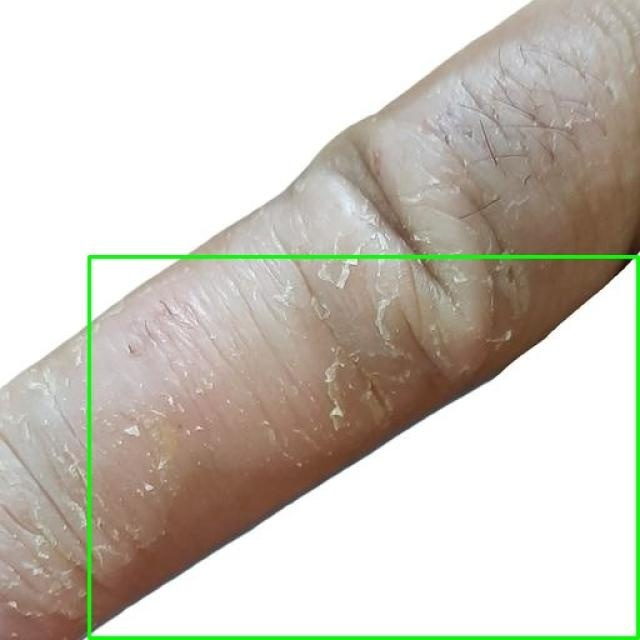Eczema: (89, 256, 639, 639)
